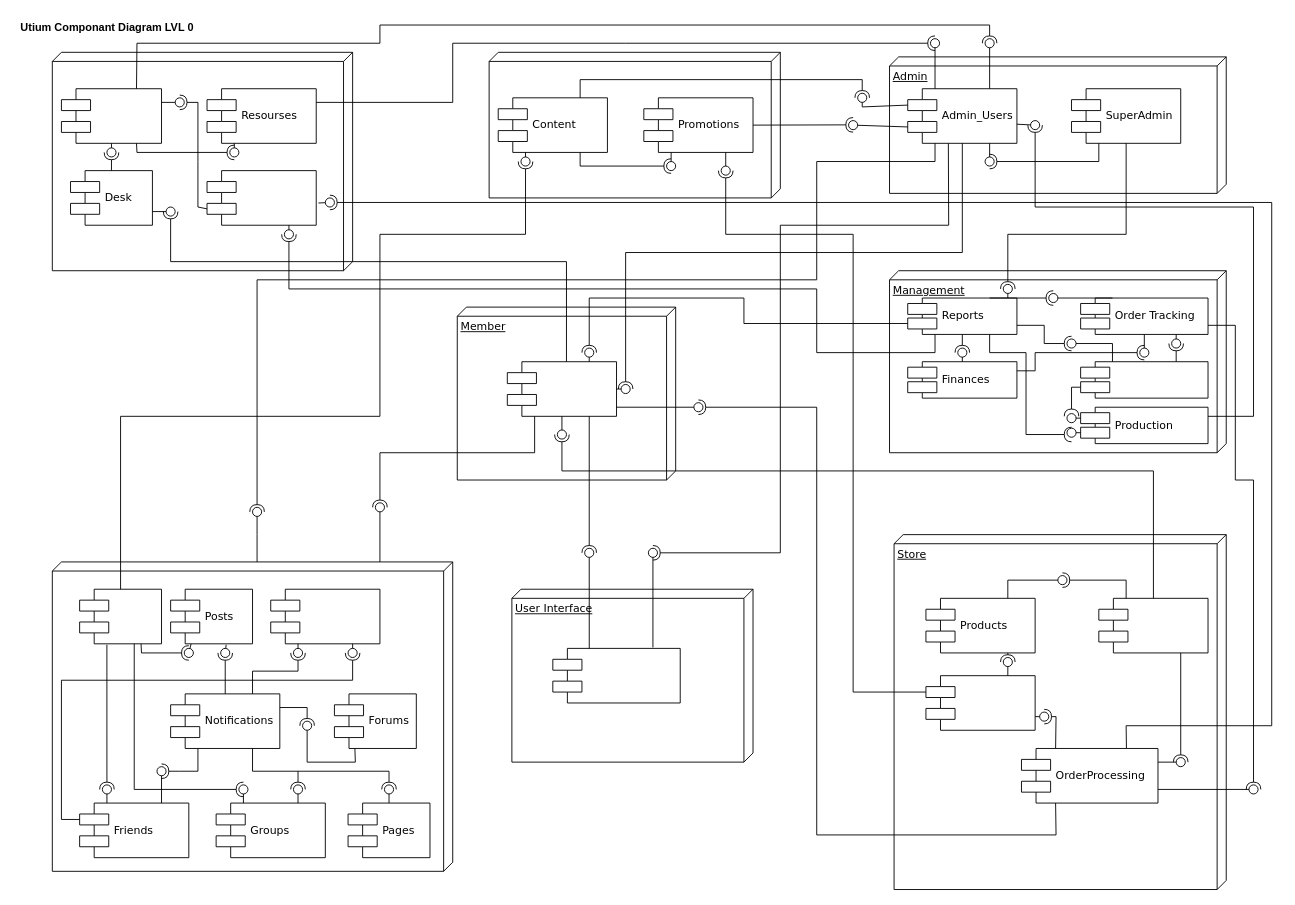
This 1295x905 diagram has some shape labels left out. The box of each missing label's shape, as (x1, y1, x2, y2) in pixels:
Account: (506, 361, 617, 416)
Authentication: (552, 647, 680, 703)
Carts: (1098, 597, 1208, 653)
Courses: (61, 88, 162, 143)
Discounts: (925, 675, 1035, 730)
Education: (51, 51, 353, 271)
Enrollment: (206, 170, 316, 225)
Feed: (79, 588, 162, 644)
Inventory: (1080, 361, 1208, 398)
Messaging: (270, 588, 380, 644)
News Letter: (488, 51, 780, 198)
Social: (51, 561, 453, 871)
